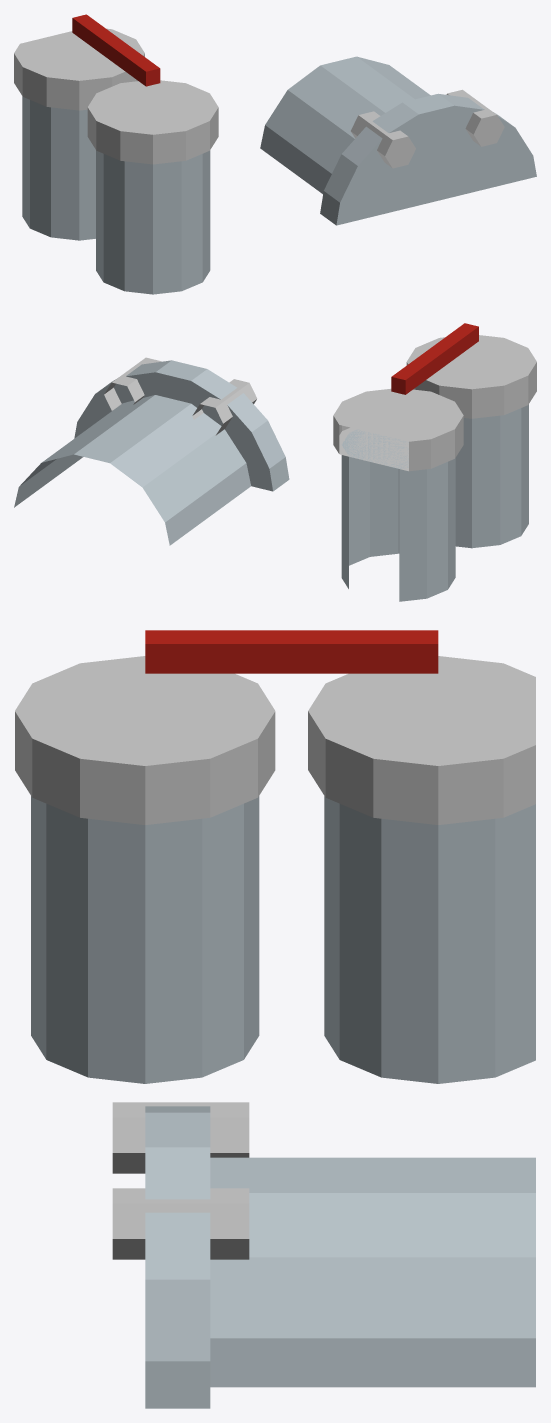
Rendered from cell_45.obj.
3 renders of one model, top to bottom at view 1: azimuth 30°, elevation 25°; view 2: azimuth 150°, elevation 25°; view 3: azimuth 270°, elevation 25°, orthographic. The views are drawn at different scales.
Bounding box in the file's own units: 0.6215 × 0.27 × 0.32.
